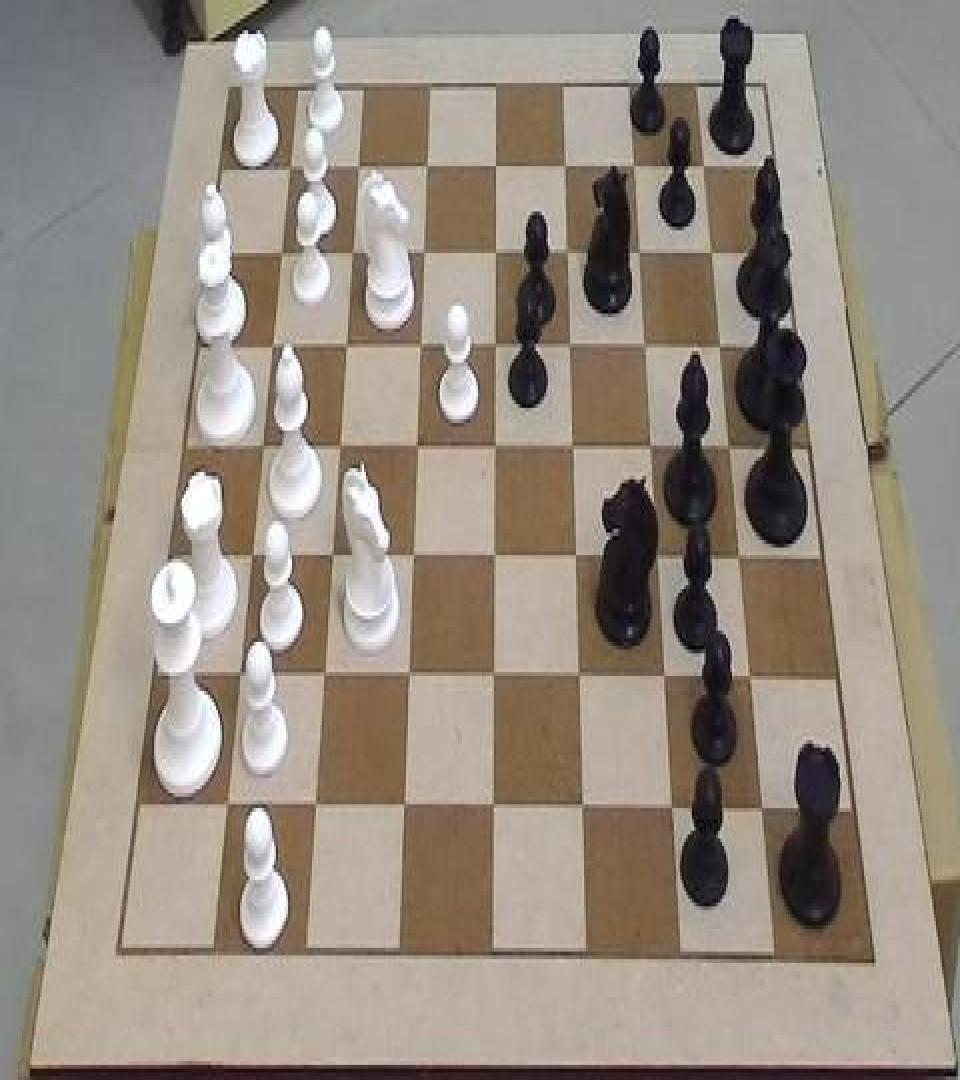xcorner: (691, 146, 711, 184), (622, 146, 642, 184), (552, 146, 572, 184), (483, 146, 503, 184), (414, 146, 434, 184), (346, 146, 366, 184), (277, 146, 297, 184), (699, 230, 719, 268), (627, 230, 647, 268), (555, 230, 575, 268), (483, 230, 503, 268), (411, 230, 431, 268), (340, 230, 360, 268), (269, 232, 289, 270), (708, 324, 728, 362), (633, 324, 653, 362), (558, 324, 578, 362), (483, 324, 503, 362), (408, 324, 428, 362), (334, 324, 354, 362), (260, 322, 280, 360), (718, 424, 738, 462), (639, 424, 659, 462), (561, 424, 581, 462), (483, 424, 503, 462), (405, 424, 425, 462), (328, 424, 348, 462), (250, 424, 270, 462), (728, 536, 748, 574), (646, 536, 666, 574), (564, 536, 584, 574), (483, 534, 503, 572), (401, 534, 421, 572), (320, 534, 340, 572), (240, 534, 260, 572), (740, 657, 760, 695), (654, 657, 674, 695), (568, 655, 588, 693), (483, 655, 503, 693), (397, 655, 417, 693), (313, 653, 333, 691), (228, 653, 248, 691), (753, 791, 773, 829), (662, 789, 682, 827), (572, 789, 592, 827), (482, 787, 502, 825), (393, 786, 413, 824), (304, 786, 324, 824), (216, 784, 236, 822)
